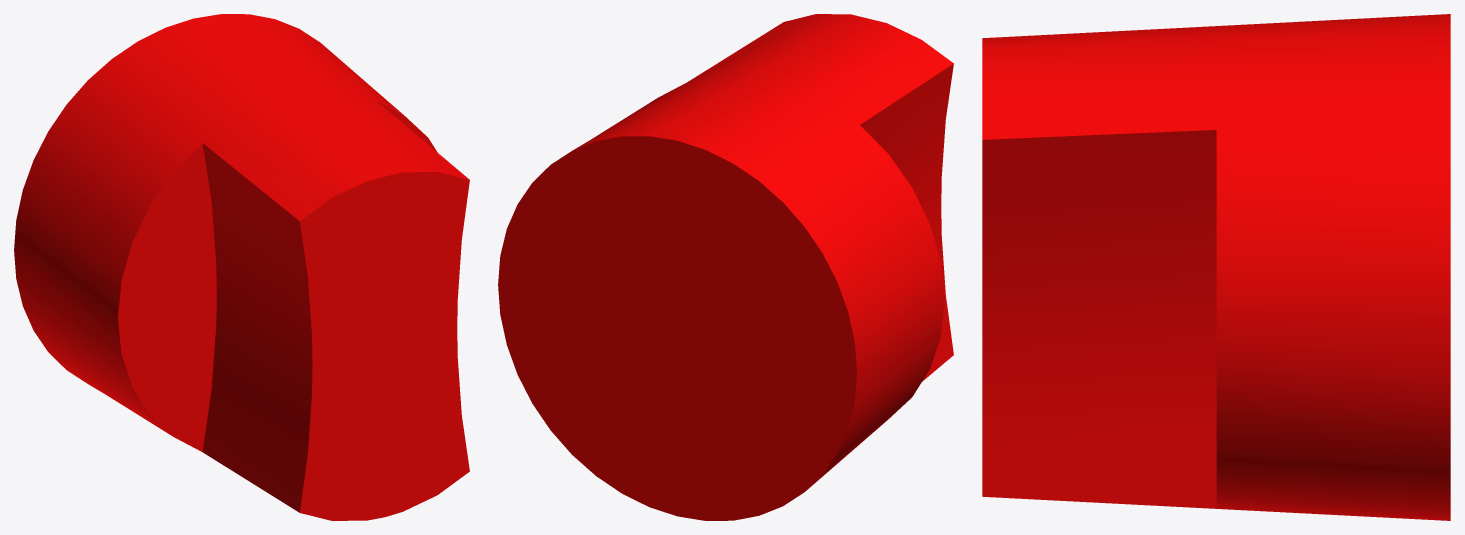
File: original-57.obj
3 renders of one model, left to right at view 1: azimuth 30°, elevation 25°; view 2: azimuth 150°, elevation 25°; view 3: azimuth 270°, elevation 25°, orthographic. The views are drawn at different scales.
Parts seen in each view (by area): view 1: Group_12_3/mesh116/mesh116-geometry#mesh116-geometry; view 2: Group_12_3/mesh116/mesh116-geometry#mesh116-geometry; view 3: Group_12_3/mesh116/mesh116-geometry#mesh116-geometry.
Part boxes in pixels (box(x1,y1,x2,y2)): Group_12_3/mesh116/mesh116-geometry#mesh116-geometry: box(14, 14, 469, 520); Group_12_3/mesh116/mesh116-geometry#mesh116-geometry: box(498, 14, 953, 520); Group_12_3/mesh116/mesh116-geometry#mesh116-geometry: box(982, 14, 1450, 520).
Size of the model in its own units: 0.0538 by 0.0538 by 0.0497.
